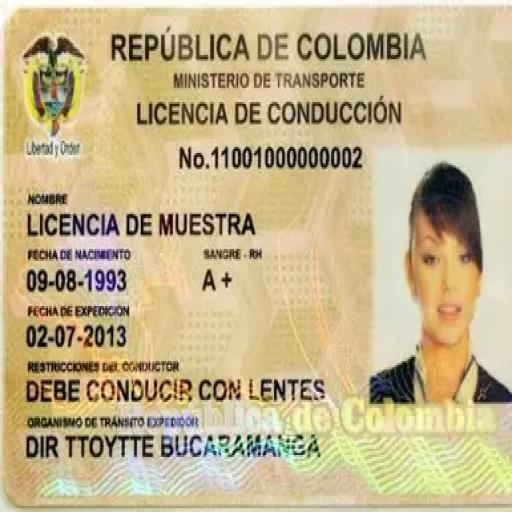colombia: (108, 28, 432, 66)
escudo de colombia: (16, 33, 96, 163)
fechaexpedicion: (22, 322, 136, 349)
fechanacimiento: (25, 265, 146, 300)
foto: (376, 160, 506, 406)
ministerio de transporte: (167, 72, 374, 91)
nombre: (21, 211, 260, 239)
numerolic: (163, 135, 370, 176)
tarjeta conduccion: (1, 12, 512, 506)
titulo licencia: (134, 96, 408, 128)
